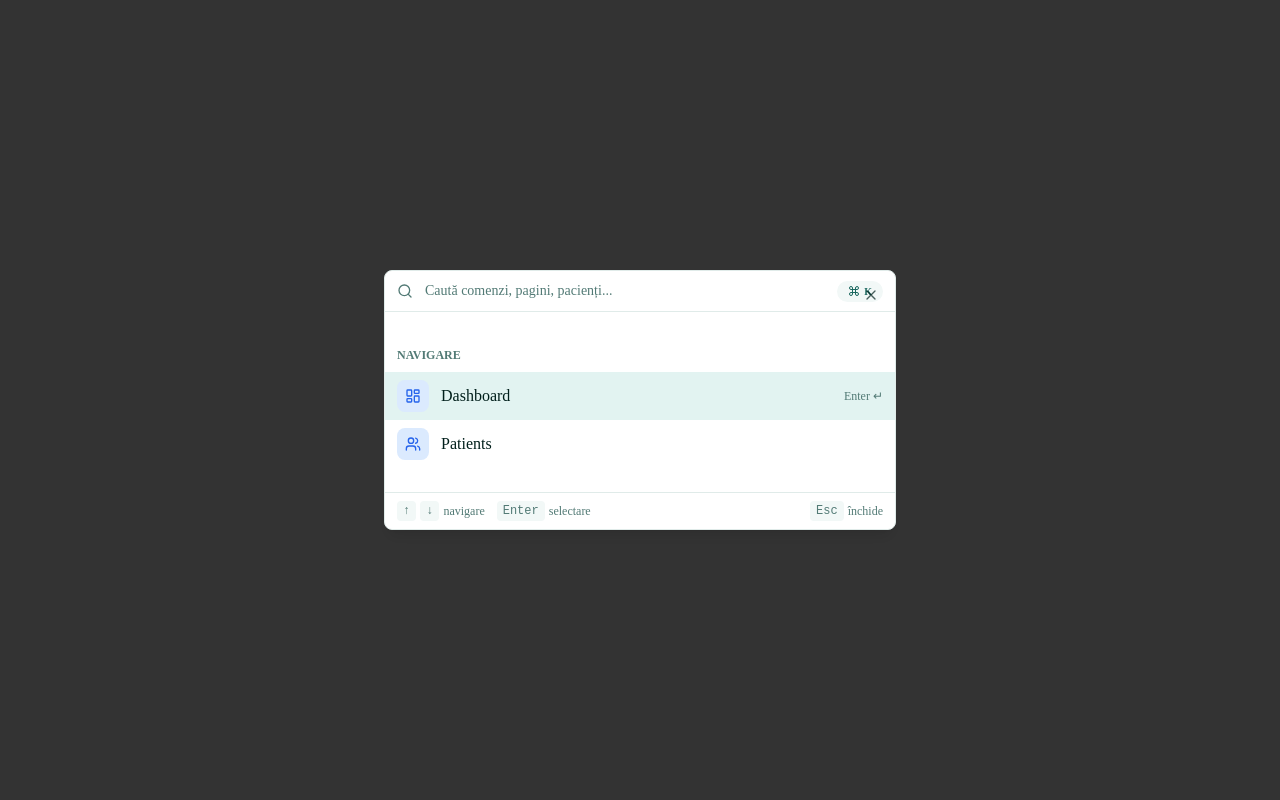
Test case: CommandPalette › should search patients by name
The width and height of the screenshot is (1280, 800).
Type "Ion" into the field with placeholder "Caută comenzi, pagini, pacienți..." at (625, 291), box [413,271,837,311]
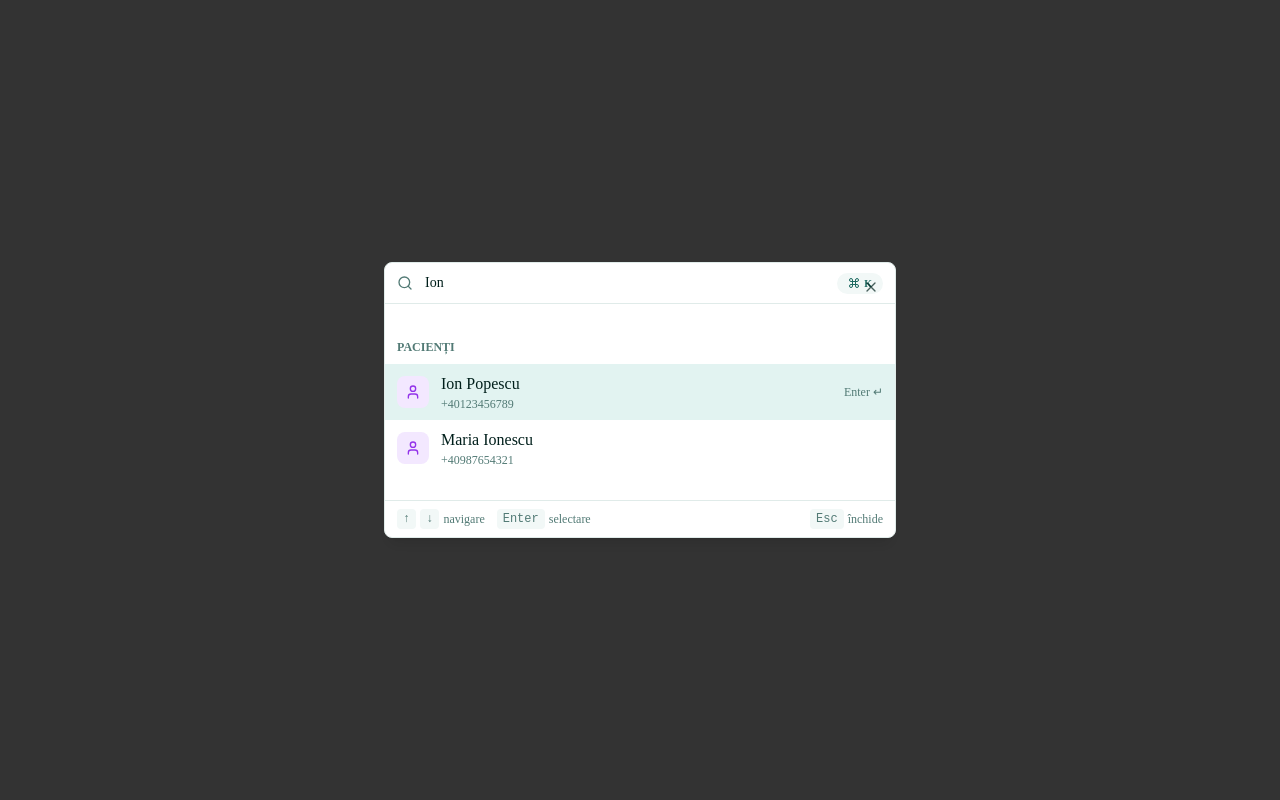
expect the text "Ion Popescu" is shown: met, box [441,375,520,392]
